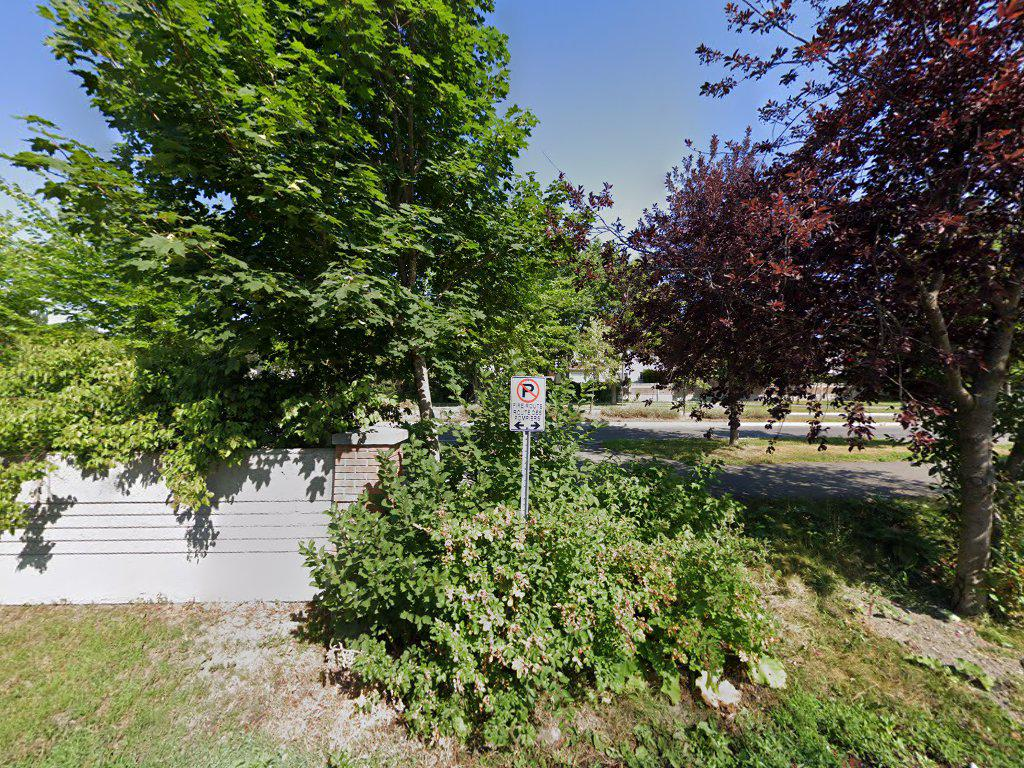trunk: (951, 364, 997, 629)
